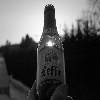beer: (30, 1, 69, 99)
